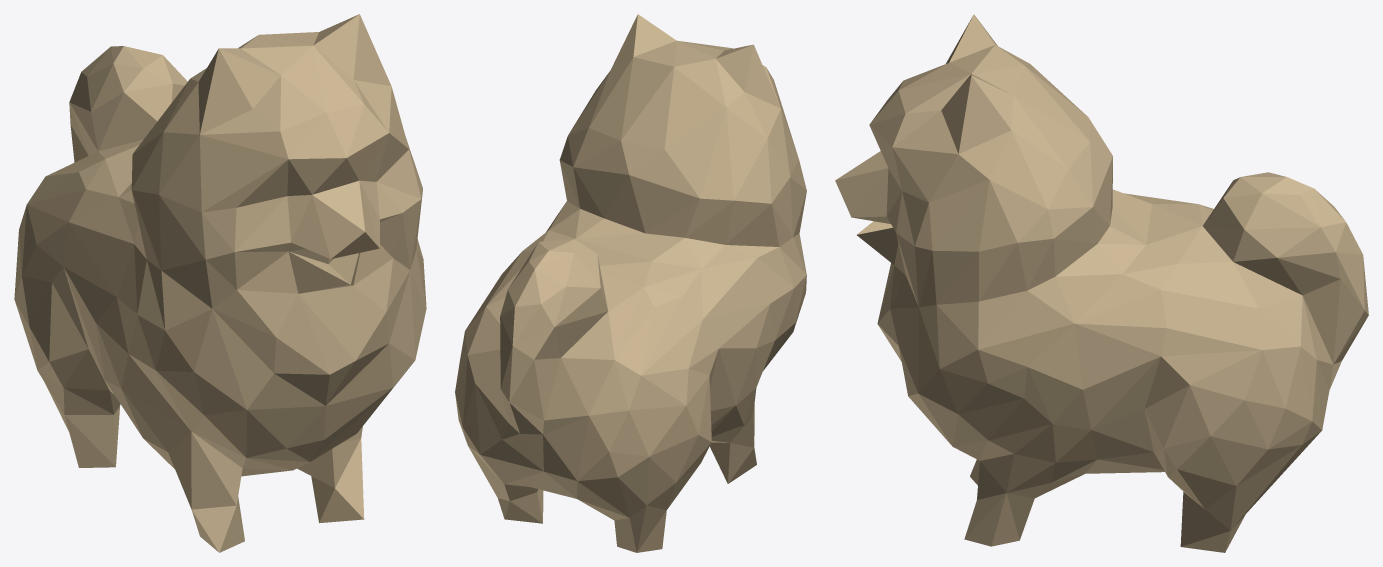
File: pomeranian.glb
The picture shows the model from 3 angles, left to right: view 1: azimuth 30°, elevation 25°; view 2: azimuth 150°, elevation 25°; view 3: azimuth 270°, elevation 25°; orthographic projection. The views are drawn at different scales.
Visible parts, largest first — view 1: pomeraniam_lowpoly.stl; view 2: pomeraniam_lowpoly.stl; view 3: pomeraniam_lowpoly.stl.
Part boxes in pixels (left/top/right/bottom): pomeraniam_lowpoly.stl: left=14, top=14, right=426, bottom=552; pomeraniam_lowpoly.stl: left=455, top=14, right=806, bottom=552; pomeraniam_lowpoly.stl: left=835, top=14, right=1368, bottom=552.
Size of the model in its own units: 0.3302 by 0.5819 by 0.6.
